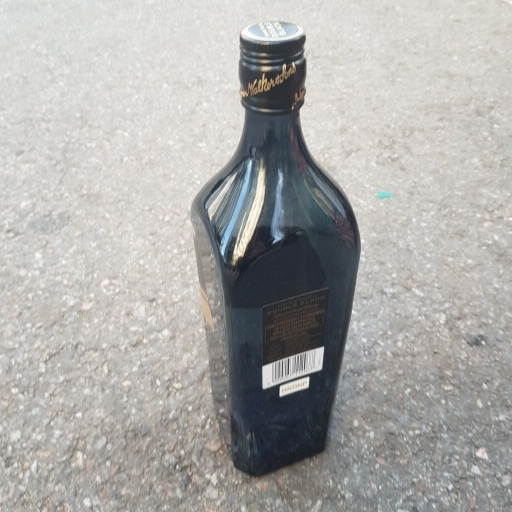Glass_2: (180, 19, 367, 474)
